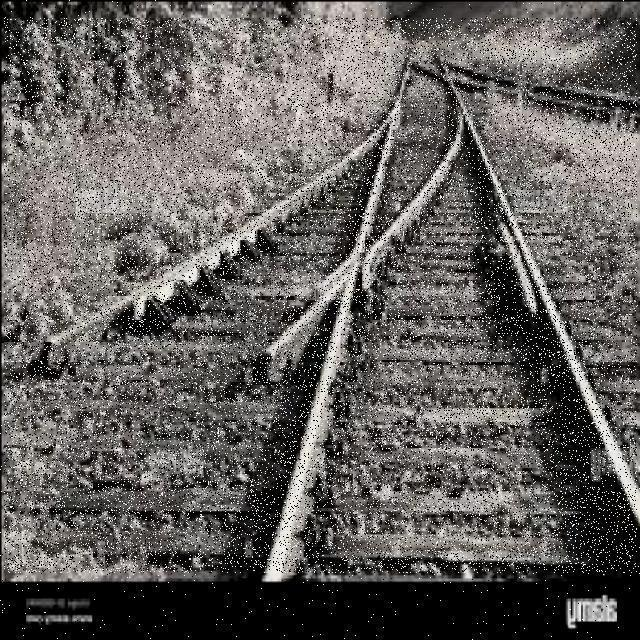rail: (6, 19, 638, 574)
